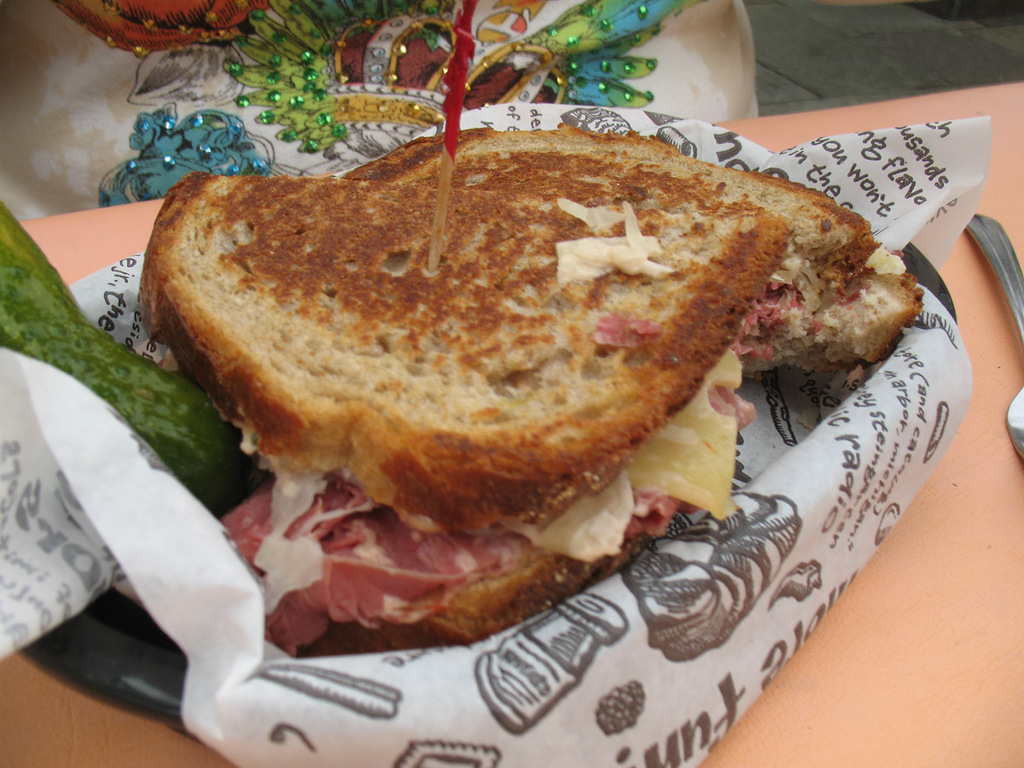sandwich: (140, 125, 927, 654)
